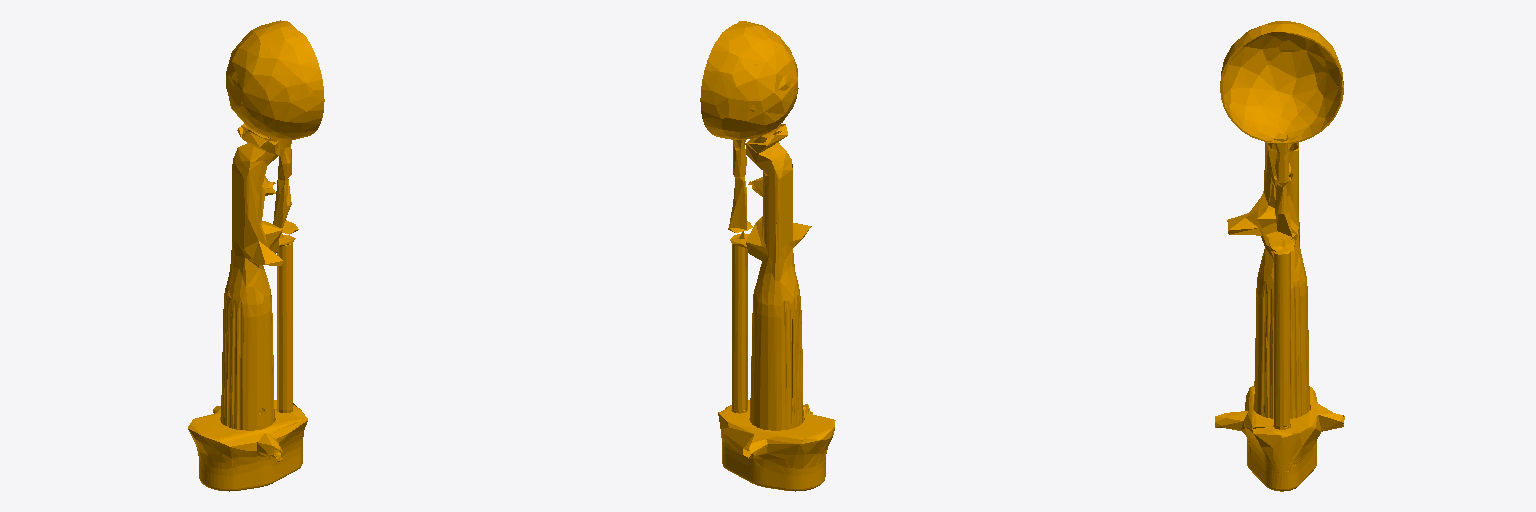
The robot description file, URDF, robot "disher_2oz":
<?xml version="1.0" ?>
<robot name="disher_2oz">
  <link name="disher_2oz">
    <visual>
      <geometry>
        <mesh filename="package://dexai/meshes/disher_2oz_simple.obj"/>
      </geometry>
    </visual>
    <collision>
      <geometry>
        <mesh filename="package://dexai/meshes/disher_2oz_simple.obj"/>
      </geometry>
      <sdf resolution="512"/>
    </collision>
    <inertial>
      <mass value="0.473"/>
      <origin rpy="0 0 0" xyz="0.002 0.0001 0.0668"/>
      <inertia ixx="0.00179" ixy="0.0" ixz="0.00005" iyy="0.00185" iyz="0.0" izz="0.00012"/>
    </inertial>
  </link>
  <!-- <link name="disher_2oz_face"/>
  <joint name="disher_2oz_to_disher_2oz_face" type="fixed">
    <parent link="disher_2oz"/>
    <child link="disher_2oz_face"/>
    <origin rpy="0 -1.5707963267948966 3.141592653589793" xyz="0.0256 0 0.221"/>
  </joint>
  <link name="disher_2oz_tip">
    <collision>
      <origin xyz="0.0 0.0 0.0"/>
      <geometry>
        <sphere radius="0.0025"/>
      </geometry>
    </collision>
  </link>
  <joint name="disher_2oz_to_disher_2oz_tip" type="fixed">
    <parent link="disher_2oz"/>
    <child link="disher_2oz_tip"/>
    <origin rpy="0 -1.5707963267948966 3.141592653589793" xyz="0.0256 0 0.2501"/>
  </joint>
  <link name="disher_2oz_neck"/>
  <joint name="disher_2oz_to_disher_2oz_neck" type="fixed">
    <parent link="disher_2oz"/>
    <child link="disher_2oz_neck"/>
    <origin rpy="0 -1.5707963267948966 3.141592653589793" xyz="0.0256 0 0.1918"/>
  </joint> -->
</robot>

--- Facts derived from the render (not from the file) ---
Views: 3 orthographic renders of the robot side by side, from view 1: azimuth 30°, elevation 25°; view 2: azimuth 150°, elevation 25°; view 3: azimuth 270°, elevation 25°.
Model disher_2oz with 1 links and 0 joints (none), rooted at disher_2oz, posed all joints at 0.
Links seen in each view (by area): view 1: disher_2oz; view 2: disher_2oz; view 3: disher_2oz.
Boxes of the visible links, x1=… form: disher_2oz: x1=188, y1=20, x2=324, y2=491; disher_2oz: x1=700, y1=21, x2=835, y2=491; disher_2oz: x1=1215, y1=21, x2=1344, y2=491.
Bounding box of the posed robot: 0.0592 × 0.061 × 0.2375 m (x, y, z).
Meshes: 1 distinct files referenced, 1 mesh visuals loaded (1 OBJ).